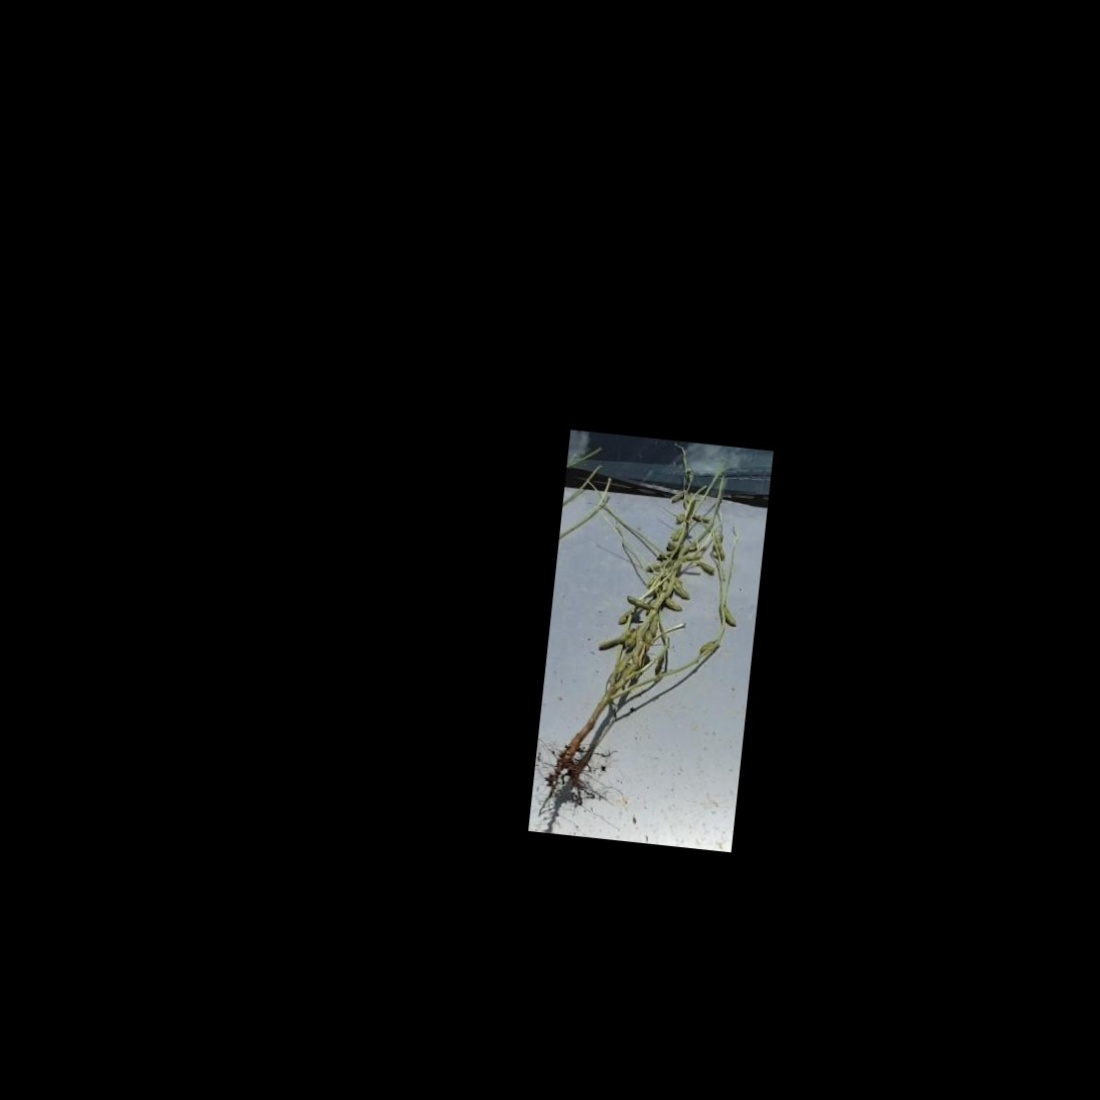pod: (620, 594, 655, 614), (596, 630, 626, 651), (721, 603, 742, 630), (691, 560, 718, 576), (662, 595, 685, 613), (690, 511, 714, 526)
soy: (540, 438, 759, 823)
